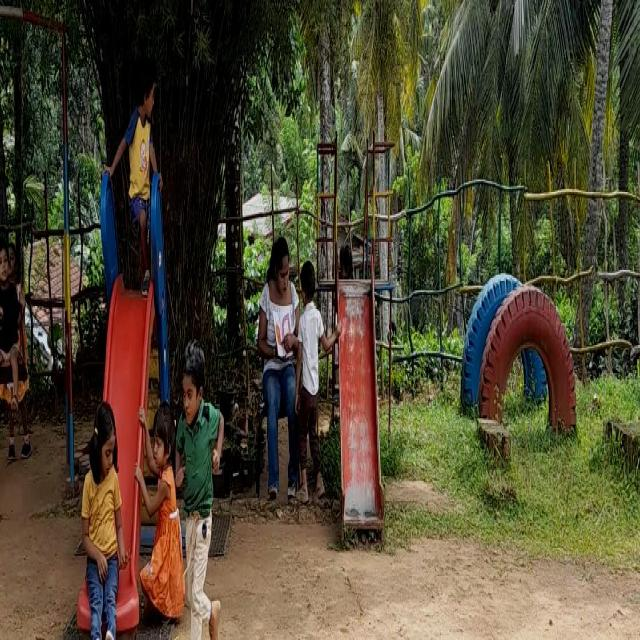adult: (252, 212, 300, 480)
child: (177, 329, 224, 640), (82, 404, 122, 640), (140, 387, 177, 618), (296, 251, 324, 498), (121, 78, 156, 264), (0, 231, 21, 414)
